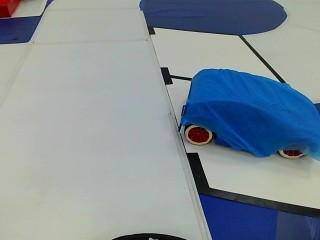car: (173, 67, 318, 163)
